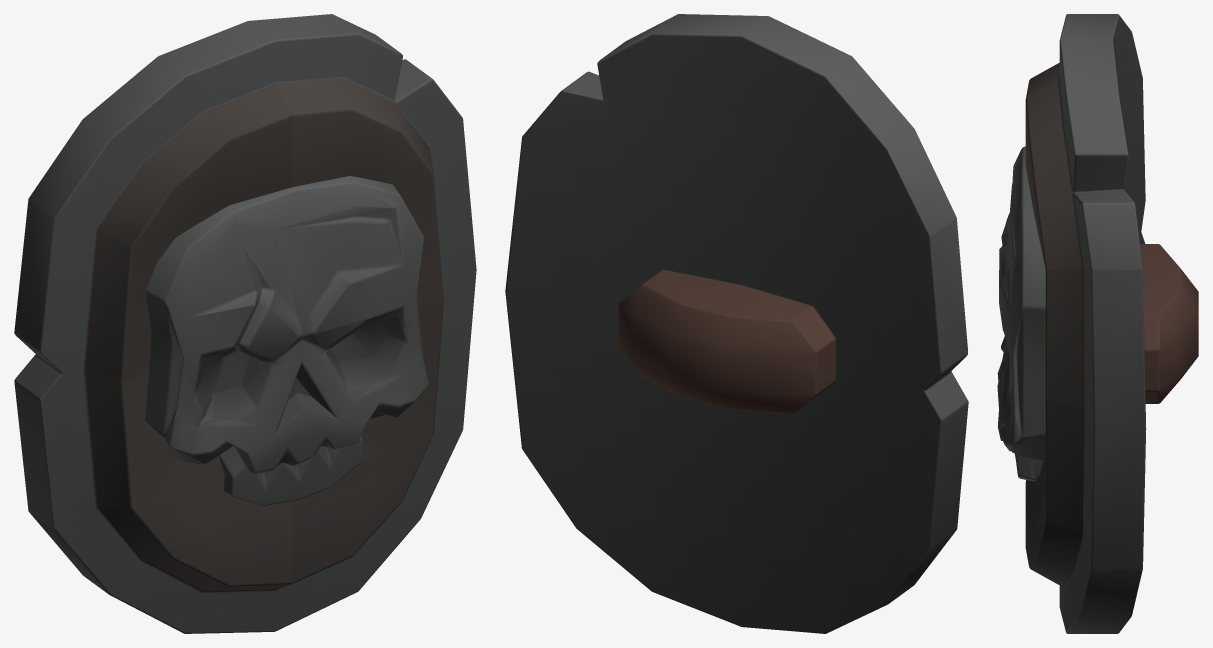
The model's file is shield_3.glb.
3 views of the same model, side by side, from view 1: azimuth 30°, elevation 25°; view 2: azimuth 150°, elevation 25°; view 3: azimuth 270°, elevation 25° (orthographic). The views are drawn at different scales.
Parts seen in each view (by area): view 1: shield_3; view 2: shield_3; view 3: shield_3.
Boxes of the visible parts, x1=… form: shield_3: x1=14, y1=14, x2=476, y2=633; shield_3: x1=505, y1=14, x2=968, y2=633; shield_3: x1=997, y1=14, x2=1198, y2=633.
Bounding box in the file's own units: 0.7337 × 0.95 × 0.3034.
1 material, 1 textured.
